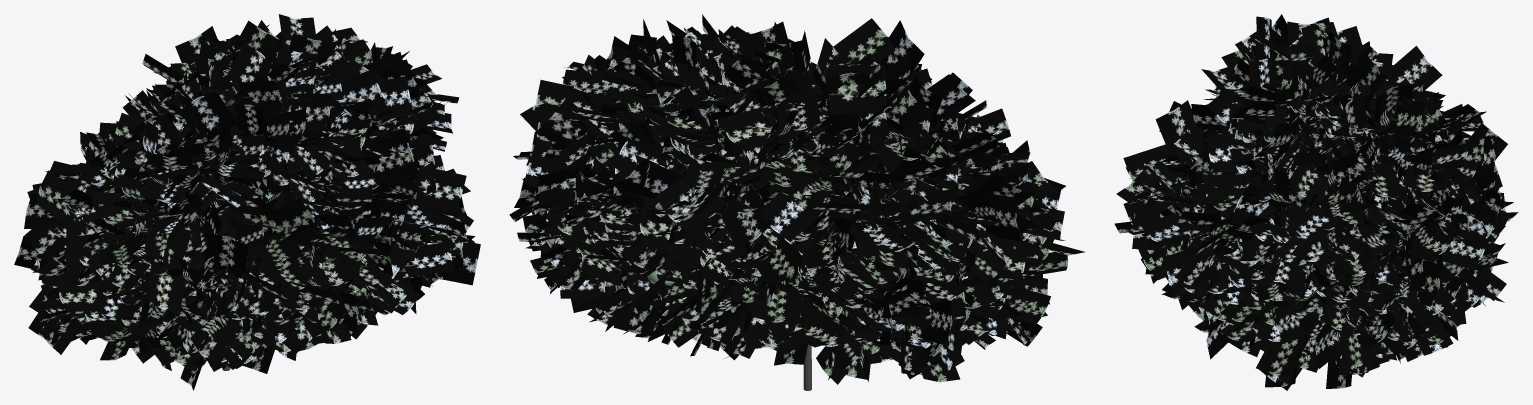
Rendered from tree_18_red_maple.glb.
3 renders of one model, left to right at view 1: azimuth 30°, elevation 25°; view 2: azimuth 150°, elevation 25°; view 3: azimuth 270°, elevation 25°, orthographic. The views are drawn at different scales.
Parts seen in each view (by area): view 1: tree_18_red_maple.leaves; view 2: tree_18_red_maple.leaves; view 3: tree_18_red_maple.leaves.
Boxes of the visible parts, left/top/right/bottom form: tree_18_red_maple.leaves: left=14, top=14, right=480, bottom=390; tree_18_red_maple.leaves: left=509, top=14, right=1084, bottom=384; tree_18_red_maple.leaves: left=1114, top=14, right=1518, bottom=390.
Size of the model in its own units: 9.93 by 6.89 by 8.08.
Materials: 3 (2 with a texture image).
